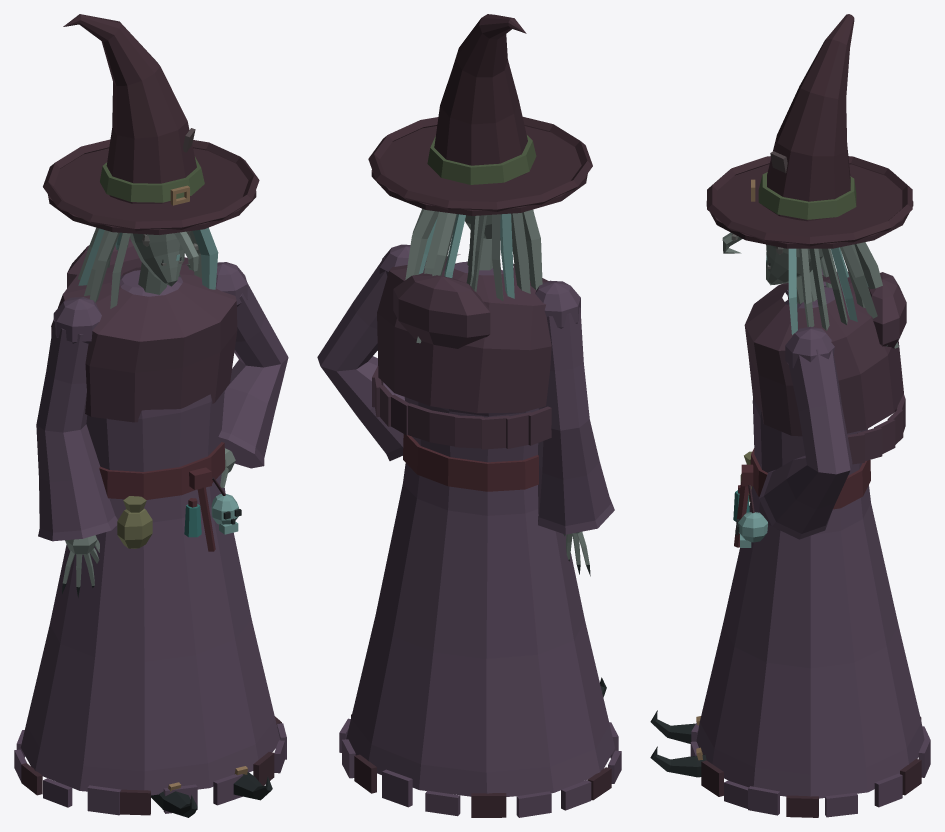
The model's file is vrajitoare_salon_2.glb.
3 views of the same model, side by side, from view 1: azimuth 30°, elevation 25°; view 2: azimuth 150°, elevation 25°; view 3: azimuth 270°, elevation 25° (orthographic). The views are drawn at different scales.
Parts seen in each view (by area): view 1: Corp, Cap, BratDrept; view 2: Corp, Cap, BratDrept; view 3: Corp, Cap.
Part boxes in pixels (<box>): Corp: <box>14,237,288,817</box>; Cap: <box>43,14,259,308</box>; BratDrept: <box>36,297,117,597</box>; Corp: <box>317,244,621,817</box>; Cap: <box>368,14,592,343</box>; BratDrept: <box>535,280,614,576</box>; Corp: <box>650,272,930,817</box>; Cap: <box>706,14,913,348</box>.
Bounding box in the file's own units: 0.7737 × 2.08 × 0.7324.
